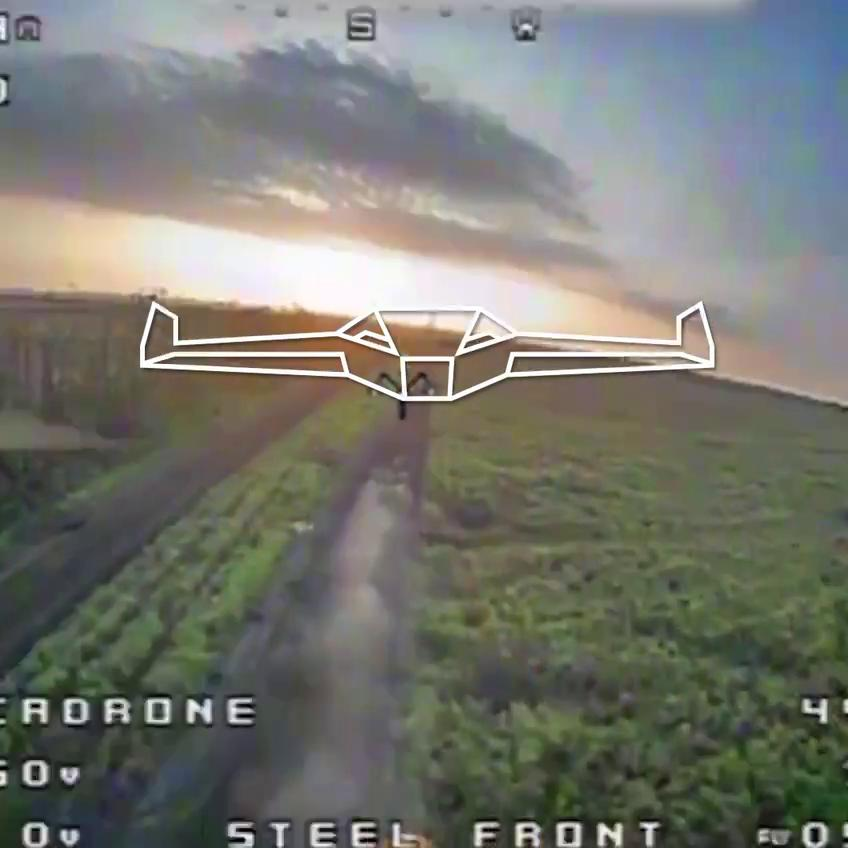tank: (361, 460, 420, 529)
